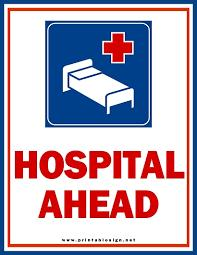Hospital: (15, 13, 168, 139)
